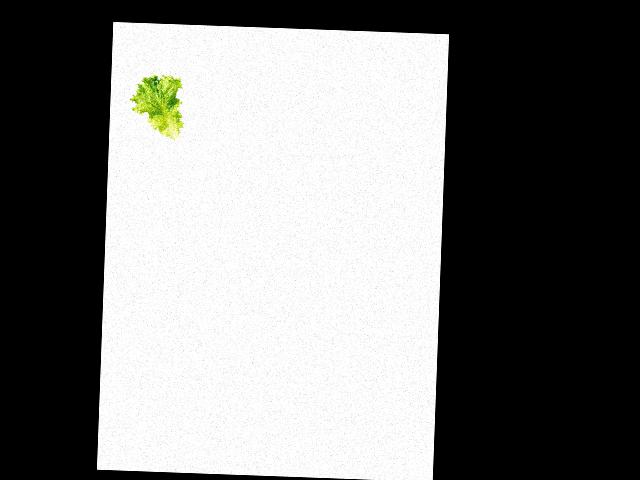lettuce: (129, 73, 182, 140)
